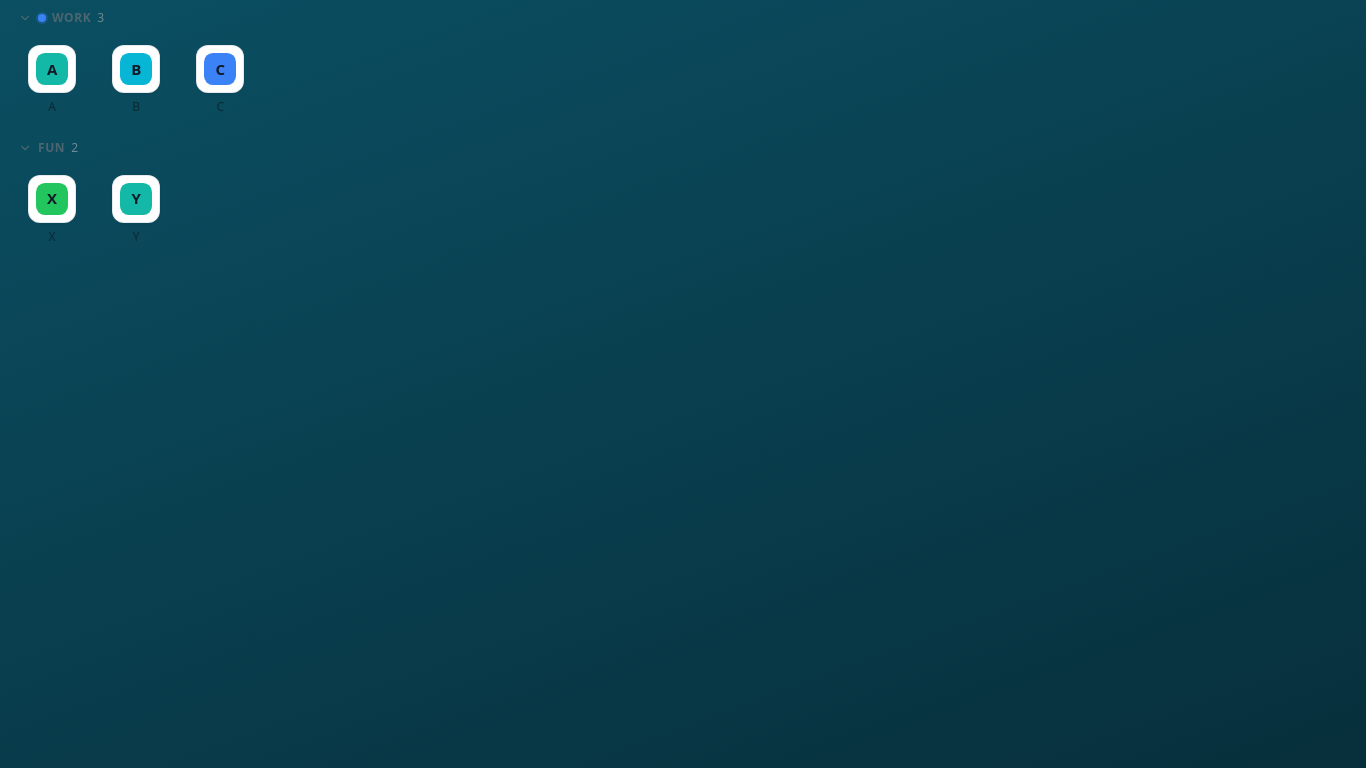
Scenario: Launch pad: view mode › collapses a group optimistically
Click the button "Work 3" at coordinates (72, 18), box [12, 5, 1354, 31]
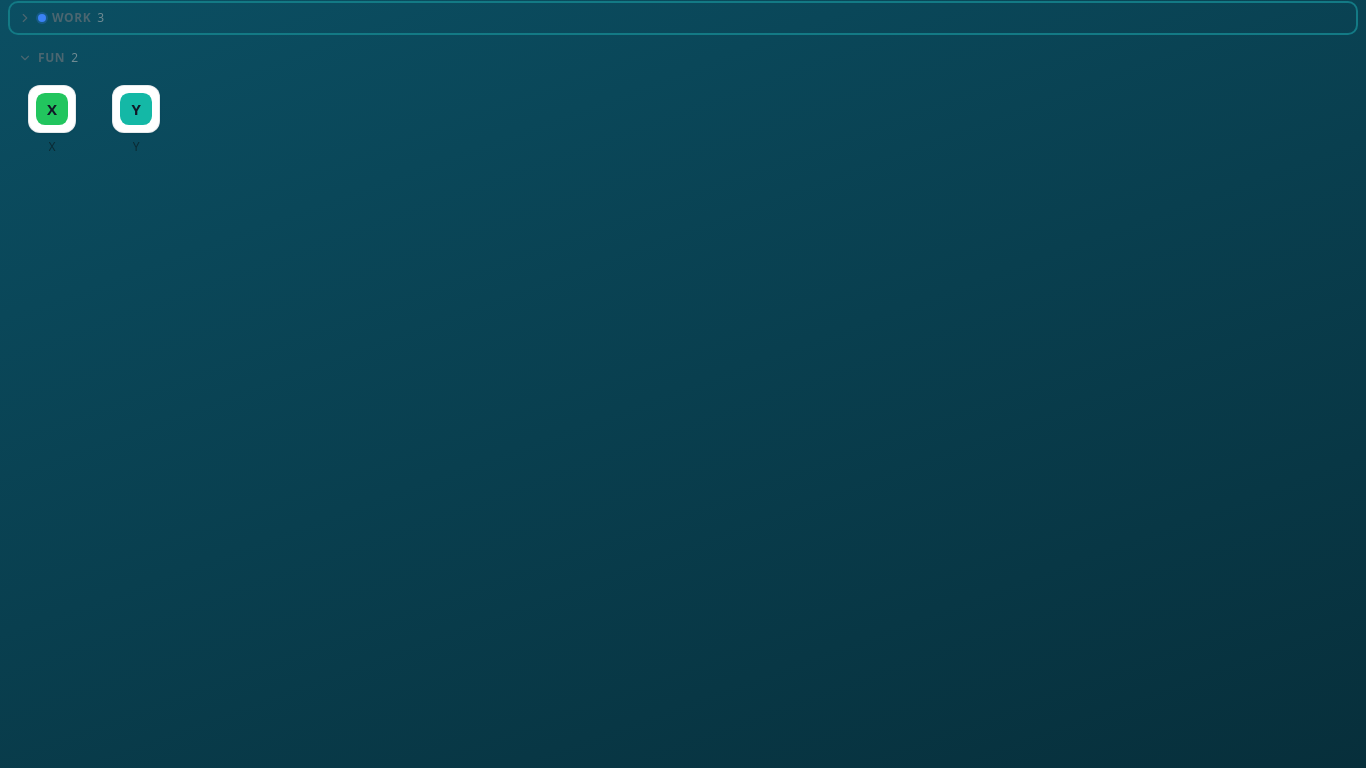
Now the button "Work 3" is collapsed, box [12, 5, 1354, 31]
